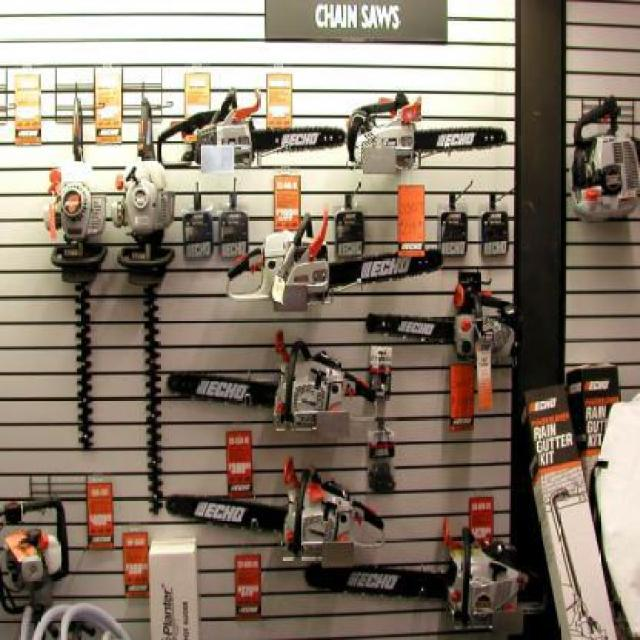Chainsaw: (298, 526, 532, 625), (168, 456, 389, 558), (228, 211, 446, 306), (168, 332, 377, 430), (160, 83, 345, 171), (346, 92, 509, 170), (366, 288, 516, 360)
